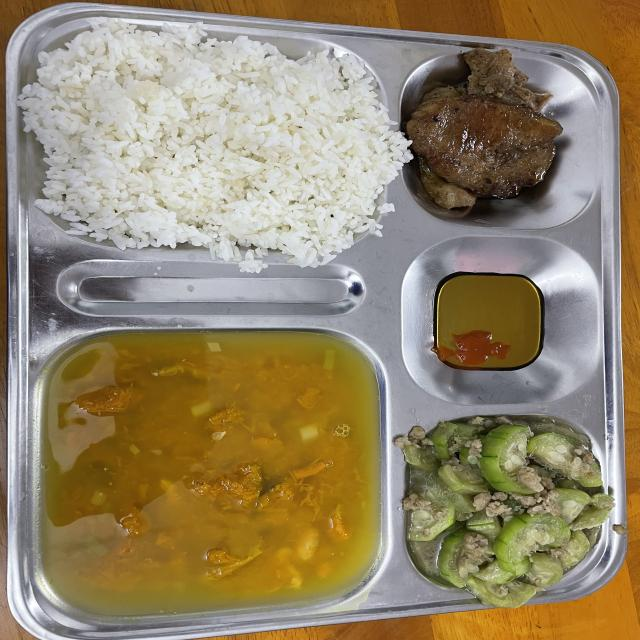canh bi do: (43, 334, 375, 612)
com: (18, 20, 411, 272)
nuoc mam: (432, 273, 544, 370)
rau: (394, 416, 614, 607)
thit chien: (405, 48, 563, 209)
